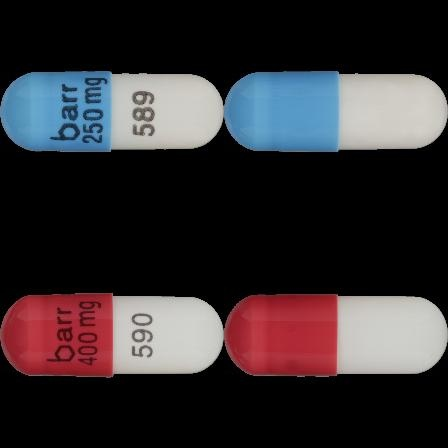0555-0589: (0, 0, 224, 224)
